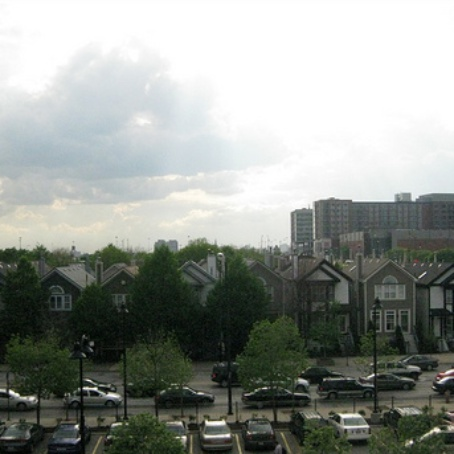building: (289, 187, 445, 251), (348, 258, 421, 366), (291, 257, 354, 358), (40, 268, 93, 351), (422, 261, 454, 354)
car: (331, 404, 372, 452), (239, 410, 283, 454), (1, 417, 49, 454), (47, 416, 92, 454), (198, 417, 225, 453)
sky: (9, 1, 454, 235)
tree: (124, 241, 197, 361), (209, 258, 277, 368), (8, 332, 95, 416), (123, 331, 192, 426), (243, 315, 288, 414)
